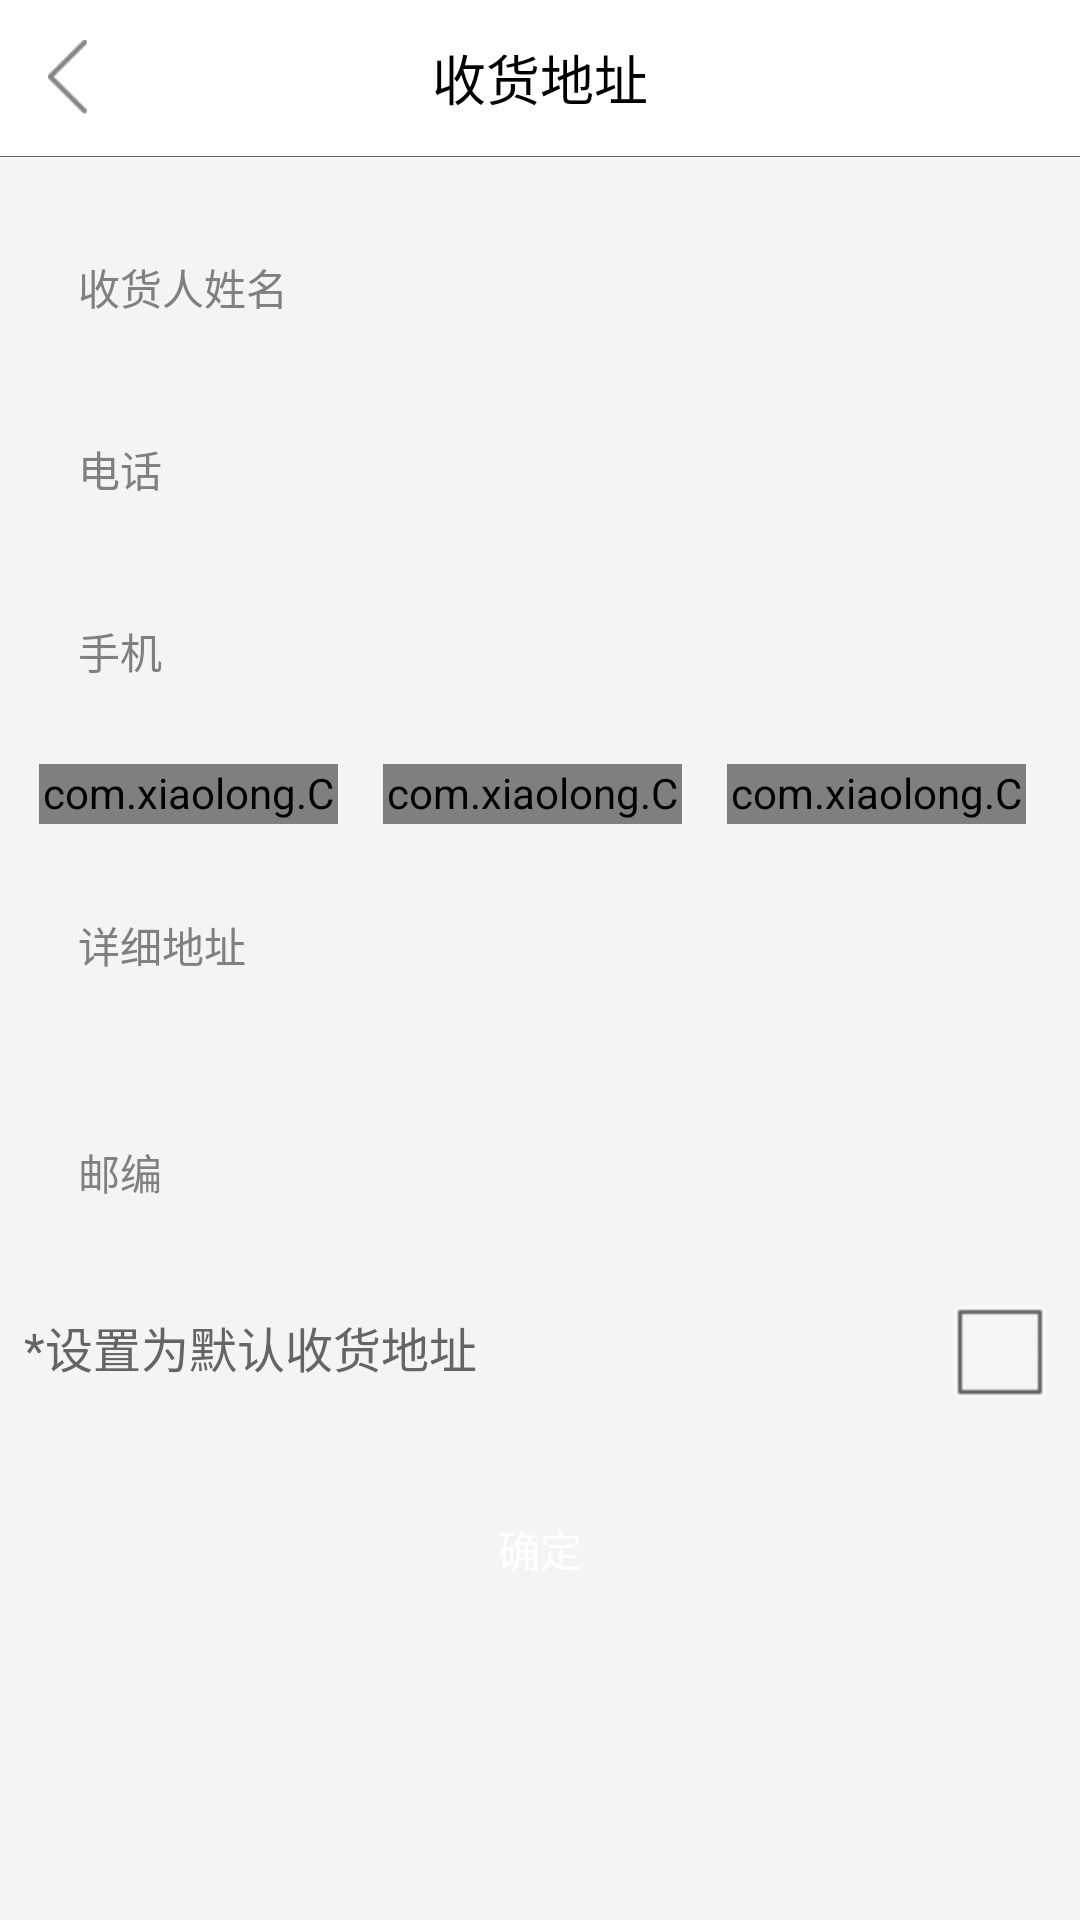

Named icons in this screenshot (1080px×1920px) and their centers, point (x, y):
back: point (67, 77)
